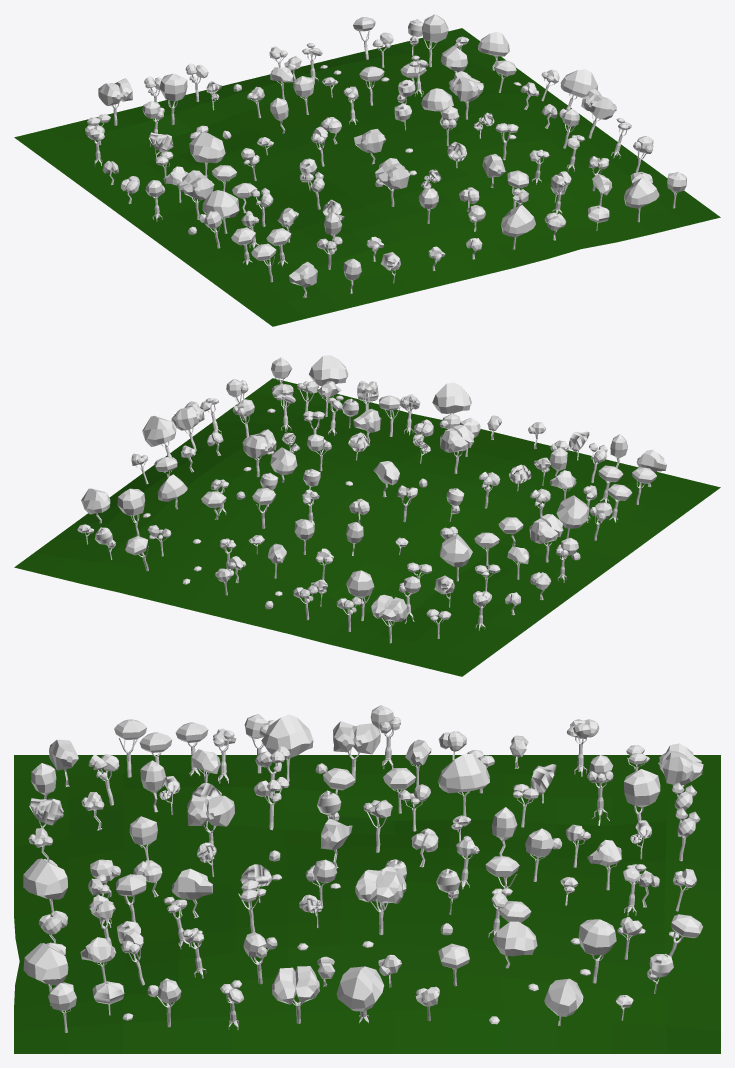
The model's file is Forest1.FBX.
The picture shows the model from 3 angles, top to bottom: view 1: azimuth 30°, elevation 25°; view 2: azimuth 150°, elevation 25°; view 3: azimuth 270°, elevation 25°; orthographic projection. The views are drawn at different scales.
Parts seen in each view (by area): view 1: Mountain005, Tree217, Tree10_047, Tree191, Tree179, Tree210, Tree10_052, Tree193, Tree10_051, Tree10_048, Tree10_049, Tree9_083 (+6 smaller); view 2: Mountain005, Tree191, Tree10_049, Tree193, Tree10_052, Tree179, Tree210, Tree10_047, Tree217, Tree10_051, Tree10_048, Tree9_082 (+5 smaller); view 3: Mountain005, Tree179, Tree217, Tree10_048, Tree210, Tree10_051, Tree191, Tree10_052, Tree193, Tree10_047, Tree10_049, Tree9_082 (+47 smaller).
Part boxes in pixels (x1,y1,x2,y2): Mountain005: (14, 28, 720, 326); Tree217: (189, 132, 225, 177); Tree10_047: (375, 158, 410, 206); Tree191: (501, 205, 535, 249); Tree179: (560, 69, 597, 110); Tree210: (202, 190, 239, 233); Tree10_052: (179, 170, 214, 219); Tree193: (624, 176, 659, 222); Tree10_051: (448, 71, 483, 119); Tree10_048: (581, 89, 616, 138); Tree10_049: (98, 78, 132, 125); Tree9_083: (159, 73, 187, 124); Mountain005: (14, 378, 720, 676); Tree191: (432, 382, 471, 414); Tree10_049: (371, 594, 407, 643); Tree193: (309, 355, 348, 402); Tree10_052: (529, 514, 563, 562); Tree179: (142, 415, 176, 457); Tree210: (556, 495, 588, 538); Tree10_047: (440, 425, 474, 473); Tree217: (439, 534, 472, 581); Tree10_051: (242, 429, 276, 477); Tree10_048: (171, 401, 204, 451); Tree9_082: (117, 488, 145, 536); Mountain005: (14, 755, 720, 1053); Tree179: (336, 966, 384, 1023); Tree217: (438, 754, 489, 816); Tree10_048: (272, 966, 319, 1023); Tree210: (261, 714, 313, 781); Tree10_051: (355, 869, 403, 934); Tree191: (23, 858, 67, 912); Tree10_052: (333, 721, 380, 782); Tree193: (23, 943, 68, 1005); Tree10_047: (187, 795, 234, 844); Tree10_049: (658, 743, 703, 809); Tree9_082: (578, 919, 616, 983).
Size of the model in its own units: 932 by 150 by 927.
